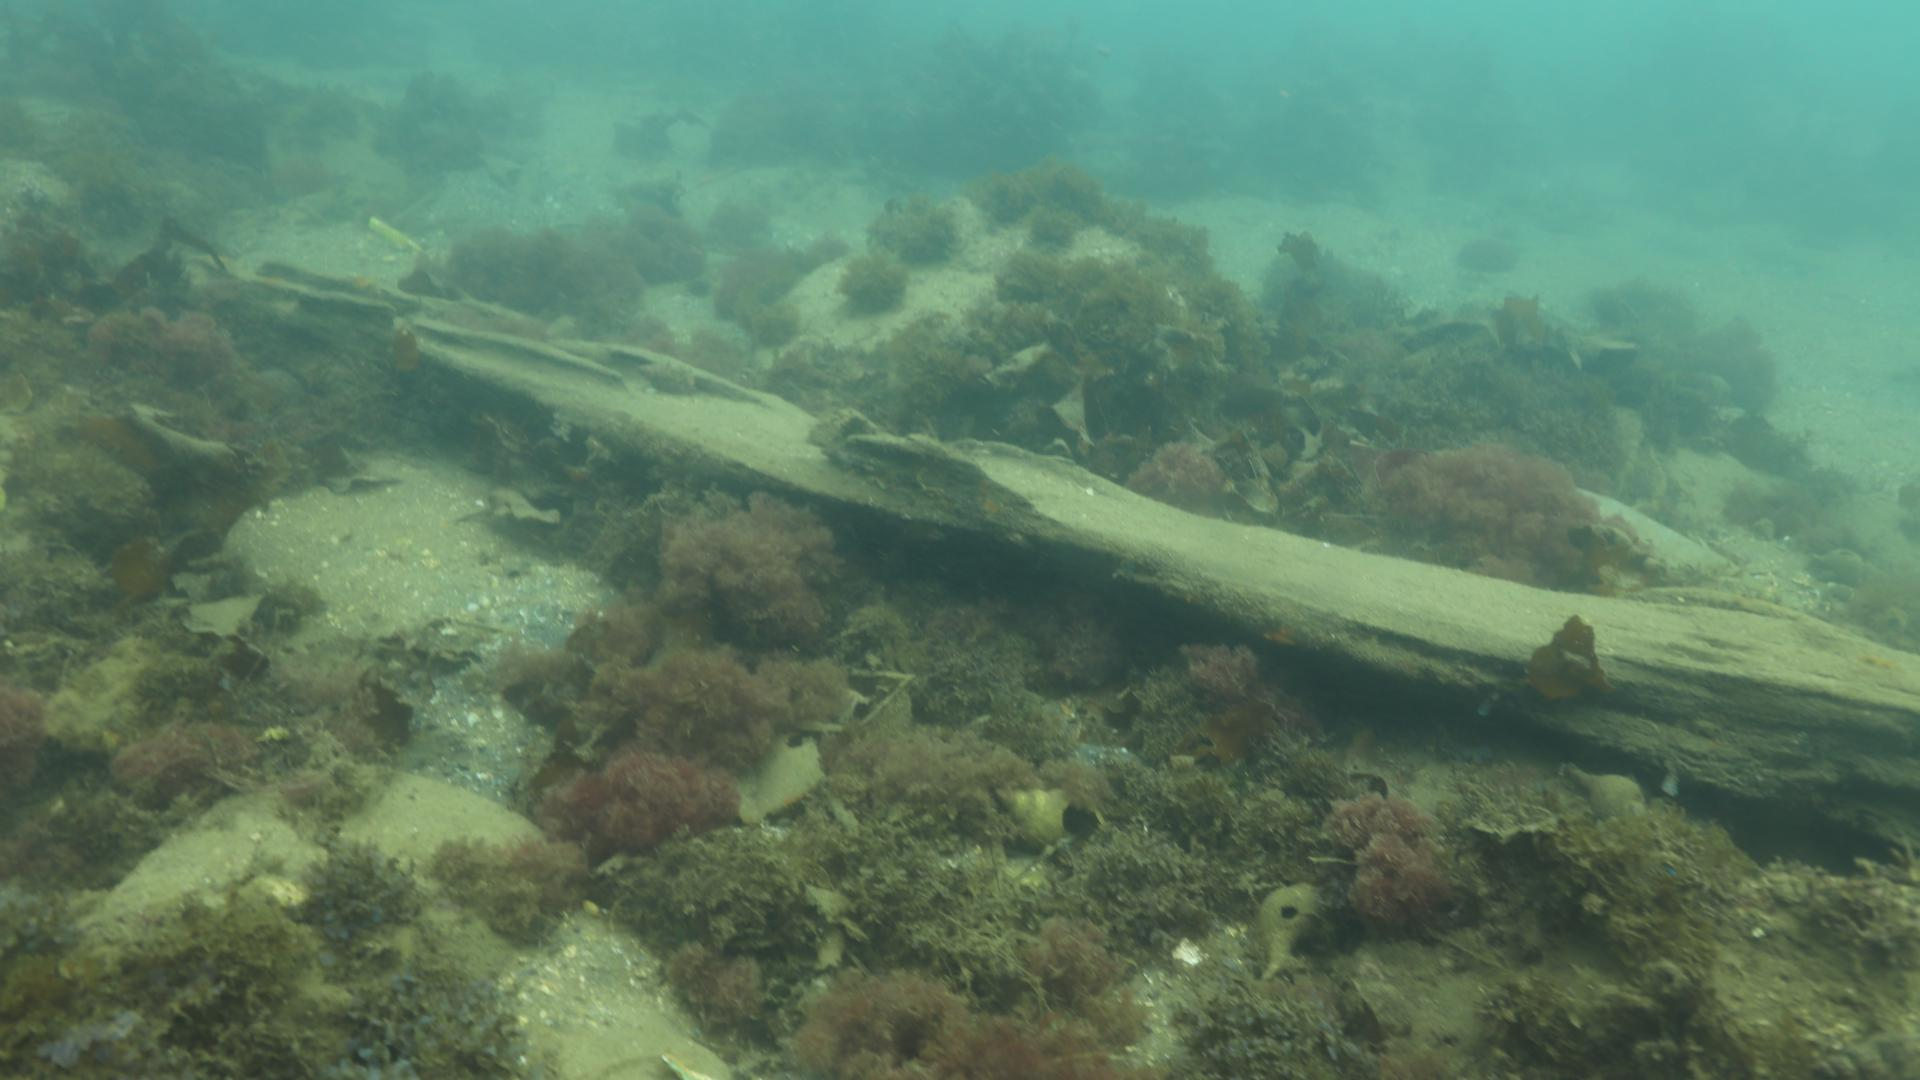wood: (388, 293, 1920, 857)
